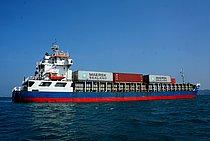Ship: (9, 35, 202, 108)
